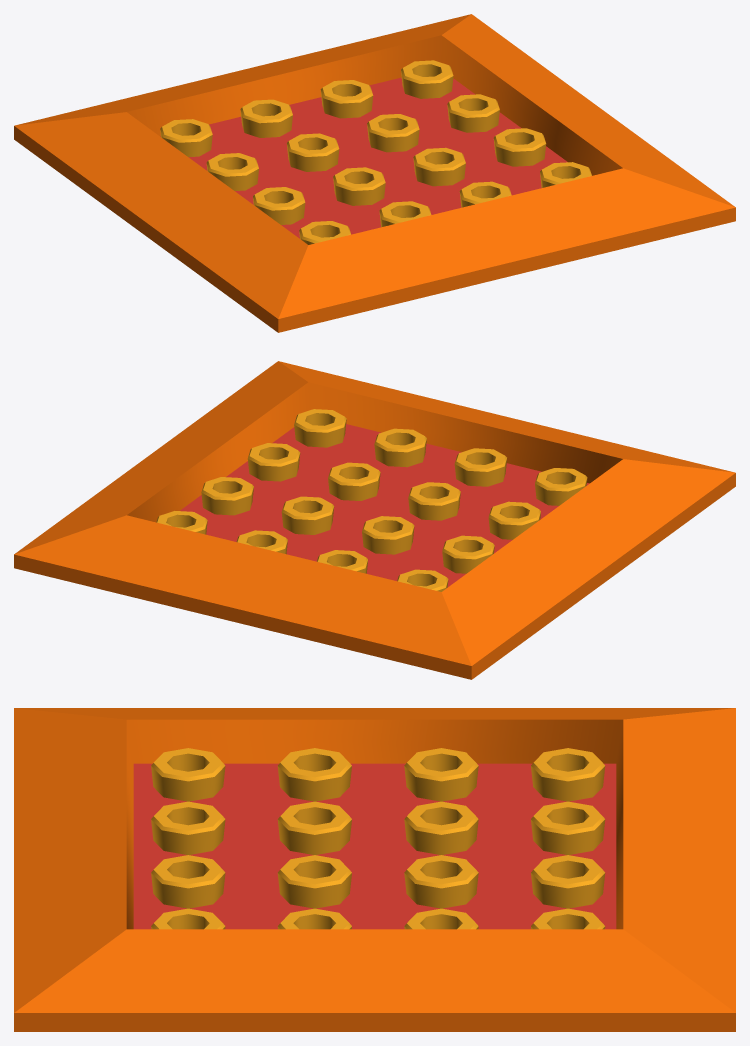
Rendered from Fire_Trap_01.fbx.
The picture shows the model from 3 angles, top to bottom: view 1: azimuth 30°, elevation 25°; view 2: azimuth 150°, elevation 25°; view 3: azimuth 270°, elevation 25°; orthographic projection. The views are drawn at different scales.
Parts seen in each view (by area): view 1: Obstacle_Fire_Trap_01; view 2: Obstacle_Fire_Trap_01; view 3: Obstacle_Fire_Trap_01.
Boxes of the visible parts, left/top/right/bottom form: Obstacle_Fire_Trap_01: left=14, top=14, right=735, bottom=332; Obstacle_Fire_Trap_01: left=14, top=361, right=735, bottom=679; Obstacle_Fire_Trap_01: left=14, top=708, right=735, bottom=1031.
Bounding box in the file's own units: 201 × 16.91 × 201.
1 material, 1 textured.
